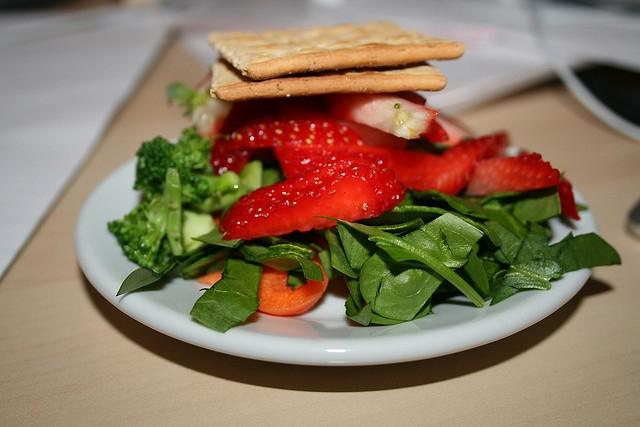broccoli: (108, 168, 183, 268), (132, 134, 208, 197), (183, 160, 263, 214)
carrot: (195, 246, 329, 315)
strawberry: (218, 152, 406, 240), (220, 112, 408, 154), (424, 128, 510, 195), (314, 94, 439, 140), (272, 144, 401, 178), (466, 152, 562, 196)
